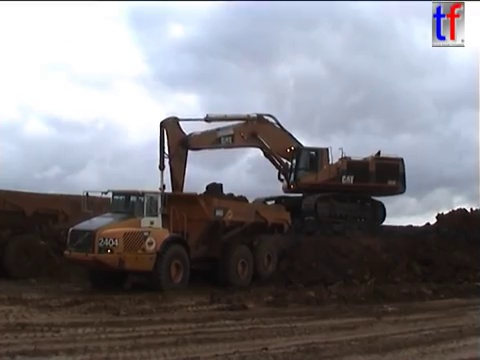excavator: (147, 110, 410, 244)
truck: (61, 181, 295, 294), (1, 187, 161, 285)
